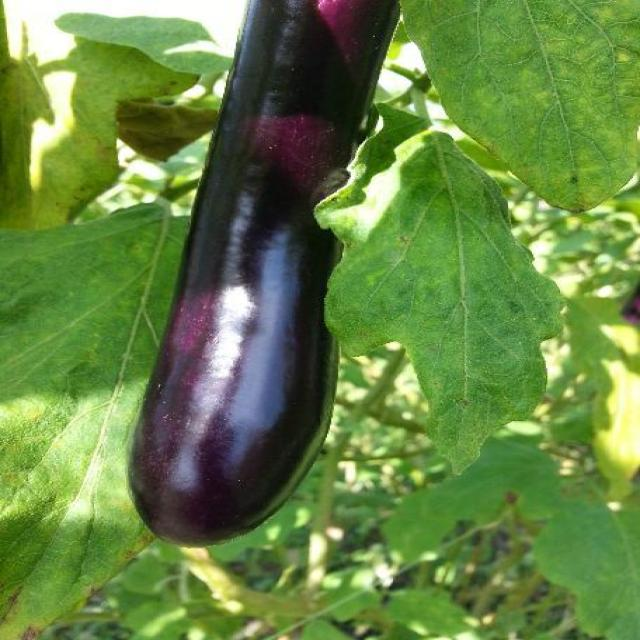eggplant: (131, 0, 377, 549)
